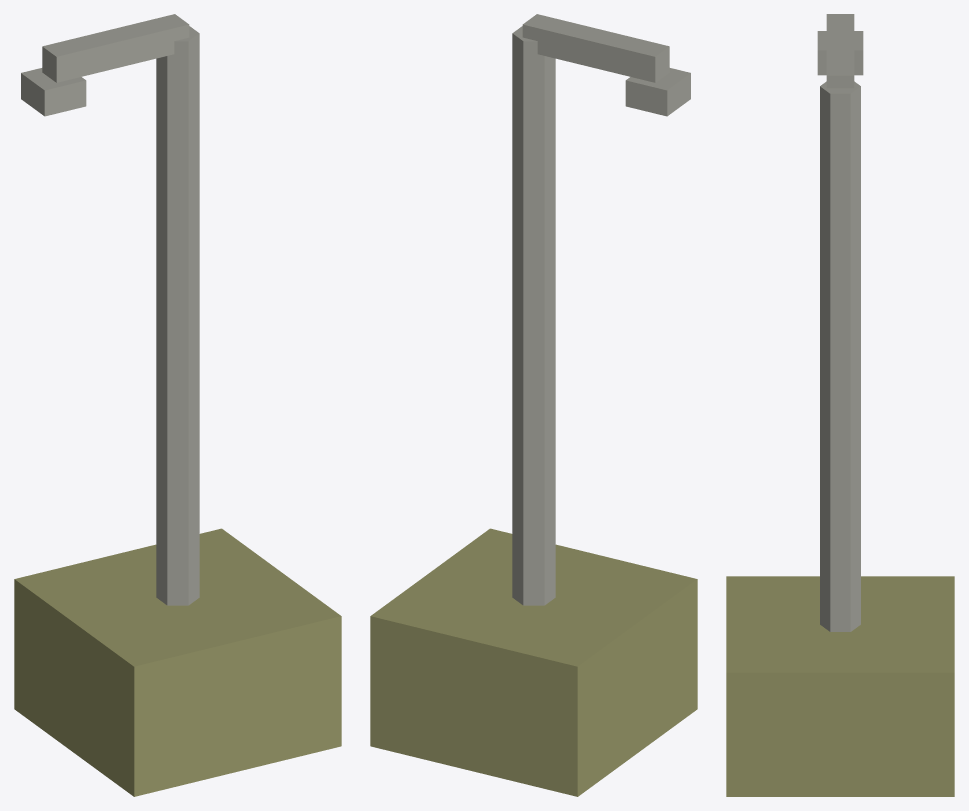
File: SM_PosteFoco_v0_Hormigon_LOD1.fbx
The picture shows the model from 3 angles, left to right: view 1: azimuth 30°, elevation 25°; view 2: azimuth 150°, elevation 25°; view 3: azimuth 270°, elevation 25°; orthographic projection. The views are drawn at different scales.
Visible parts, largest first — view 1: SM_poste_foco_v0_LOD1; view 2: SM_poste_foco_v0_LOD1; view 3: SM_poste_foco_v0_LOD1.
Part boxes in pixels (bbox=[...]): SM_poste_foco_v0_LOD1: bbox=[14, 14, 341, 796]; SM_poste_foco_v0_LOD1: bbox=[370, 14, 697, 796]; SM_poste_foco_v0_LOD1: bbox=[726, 14, 954, 796].
Bounding box in the file's own units: 0.6 × 1.63 × 0.5.
